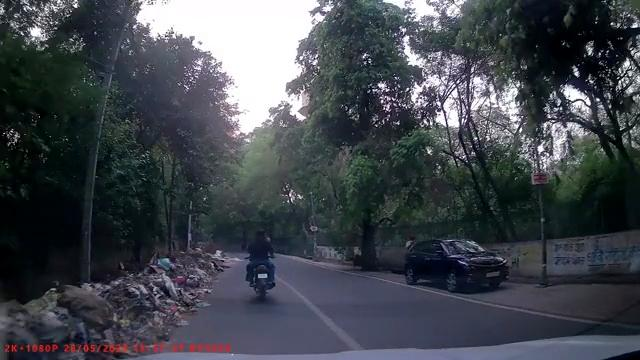motorcycle_without_helmet: (245, 227, 277, 300)
